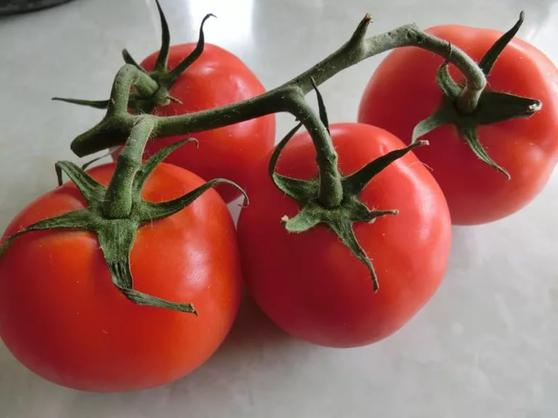tomato: (1, 160, 254, 389), (237, 115, 455, 345)
